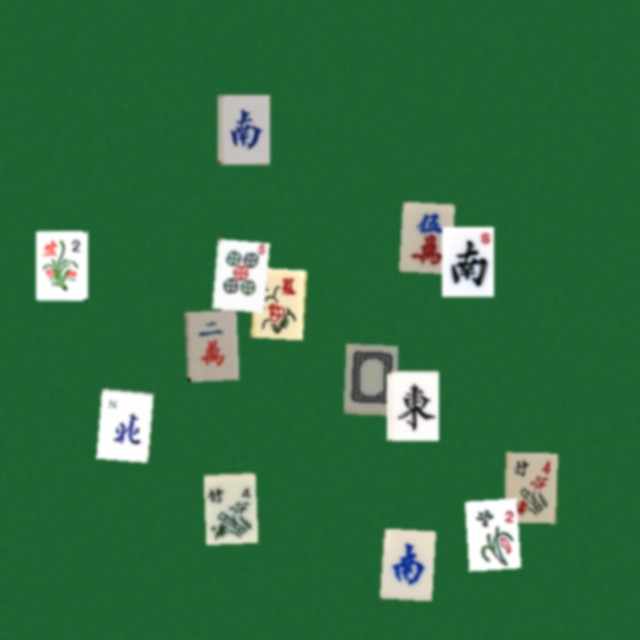tile: (250, 267, 302, 337), (504, 452, 556, 522), (212, 238, 264, 308), (343, 343, 395, 413), (184, 309, 236, 379), (398, 201, 450, 271), (203, 472, 255, 542), (379, 528, 431, 598), (386, 370, 438, 440), (217, 94, 269, 164), (96, 388, 148, 458), (35, 230, 87, 300), (464, 498, 516, 568), (441, 226, 493, 296)
